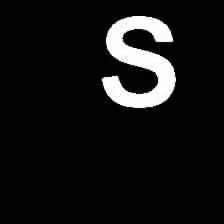LTR_S: (98, 8, 177, 113)
